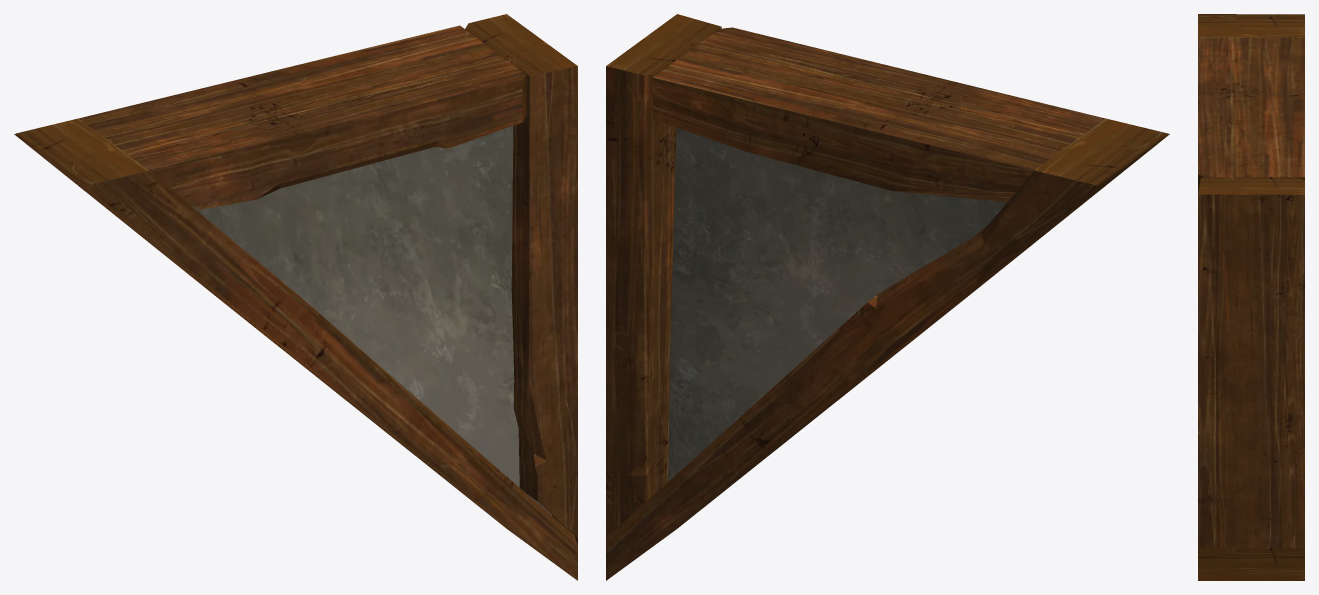
The picture shows the model from 3 angles, left to right: view 1: azimuth 30°, elevation 25°; view 2: azimuth 150°, elevation 25°; view 3: azimuth 270°, elevation 25°; orthographic projection. The views are drawn at different scales.
Visible parts, largest first — view 1: SM_BB_T2_Wall_Slanted_Med_Inverted_LOD0; view 2: SM_BB_T2_Wall_Slanted_Med_Inverted_LOD0; view 3: SM_BB_T2_Wall_Slanted_Med_Inverted_LOD0.
Part boxes in pixels (left/top/right/bottom): SM_BB_T2_Wall_Slanted_Med_Inverted_LOD0: left=14, top=14, right=577, bottom=580; SM_BB_T2_Wall_Slanted_Med_Inverted_LOD0: left=606, top=14, right=1169, bottom=580; SM_BB_T2_Wall_Slanted_Med_Inverted_LOD0: left=1198, top=14, right=1304, bottom=580.
Bounding box in the file's own units: 1.5 × 1.5 × 0.375.
2 materials, 2 textured.
